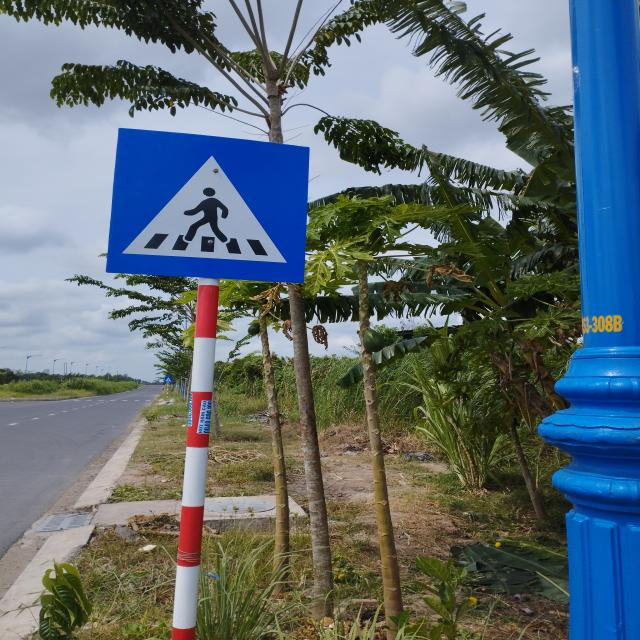Giao_Nhau_Duong_Uu_Tien: (106, 128, 308, 285)
